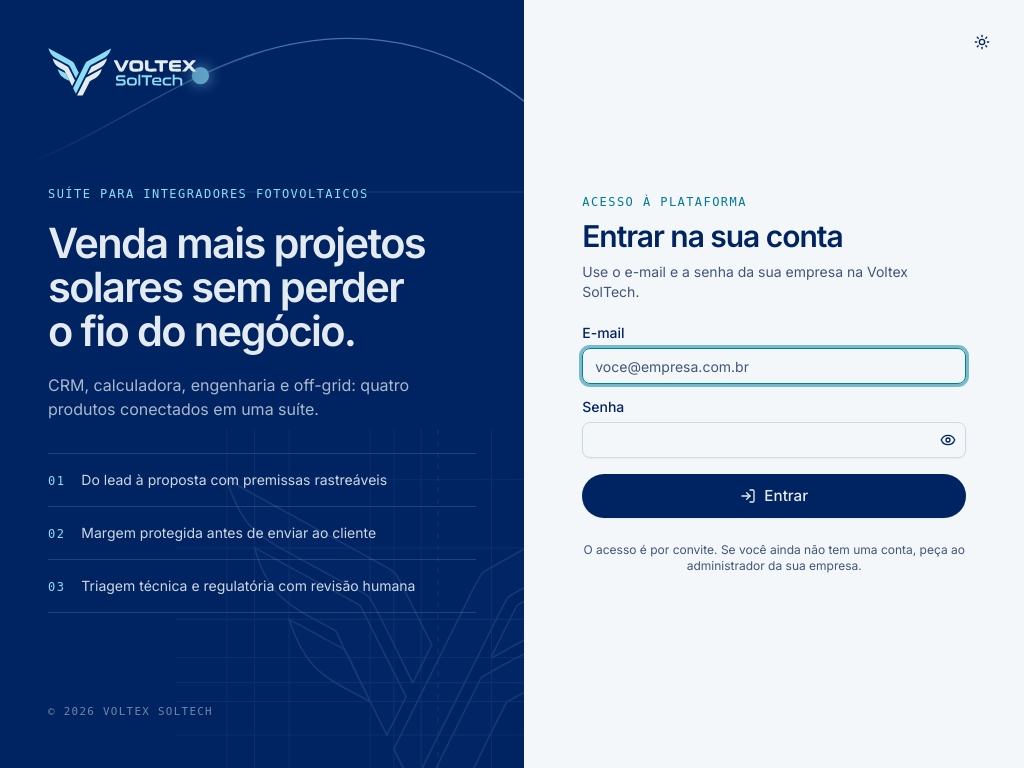
Scenario: LoginPage › credenciais erradas (401) mostram mensagem clara e mantêm o formulário
Expected: the heading "Entrar na sua conta" is shown, [582,218,842,254]
In the field labelled "E-mail": [774, 366] box [582,348,966,384], type "owner@voltex.test"
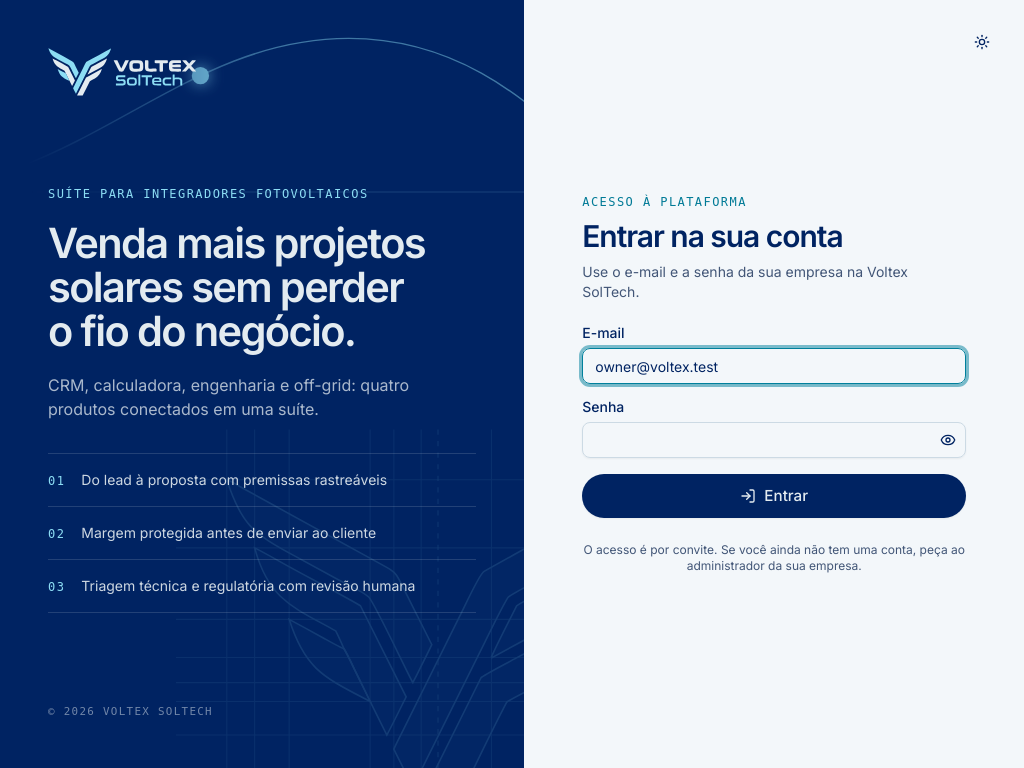
In the password field labelled "Senha": [774, 440] box [582,422,966,458], type "senhaerrada1"
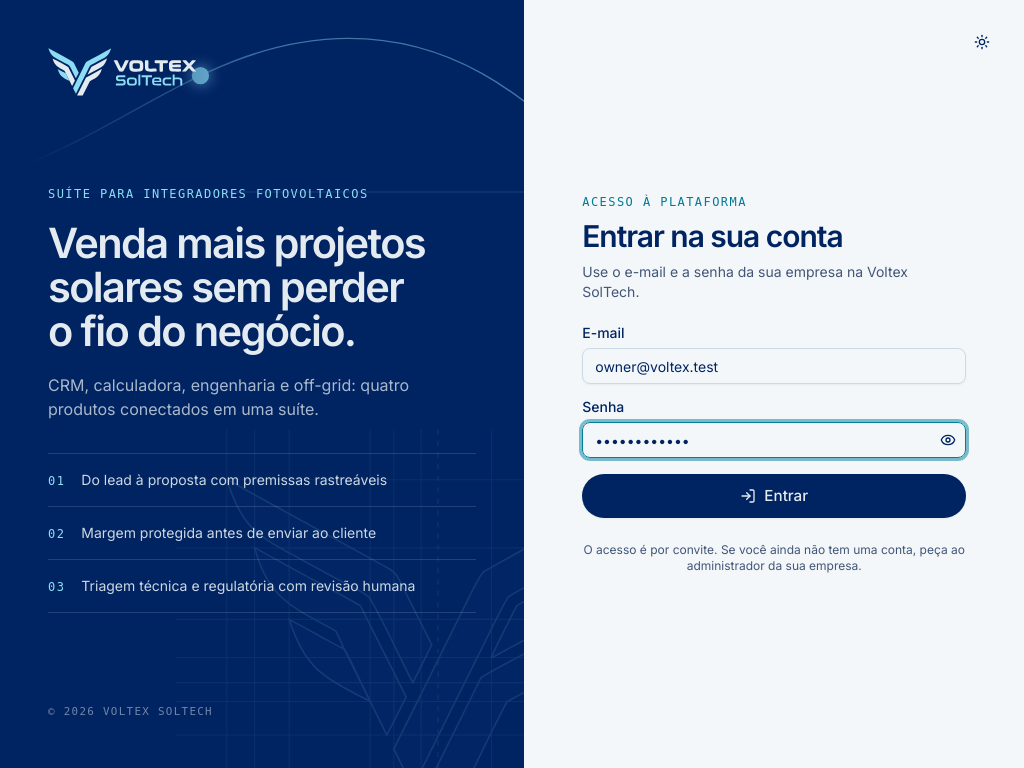
Click the button "Entrar": [774, 496] box [582,474,966,518]
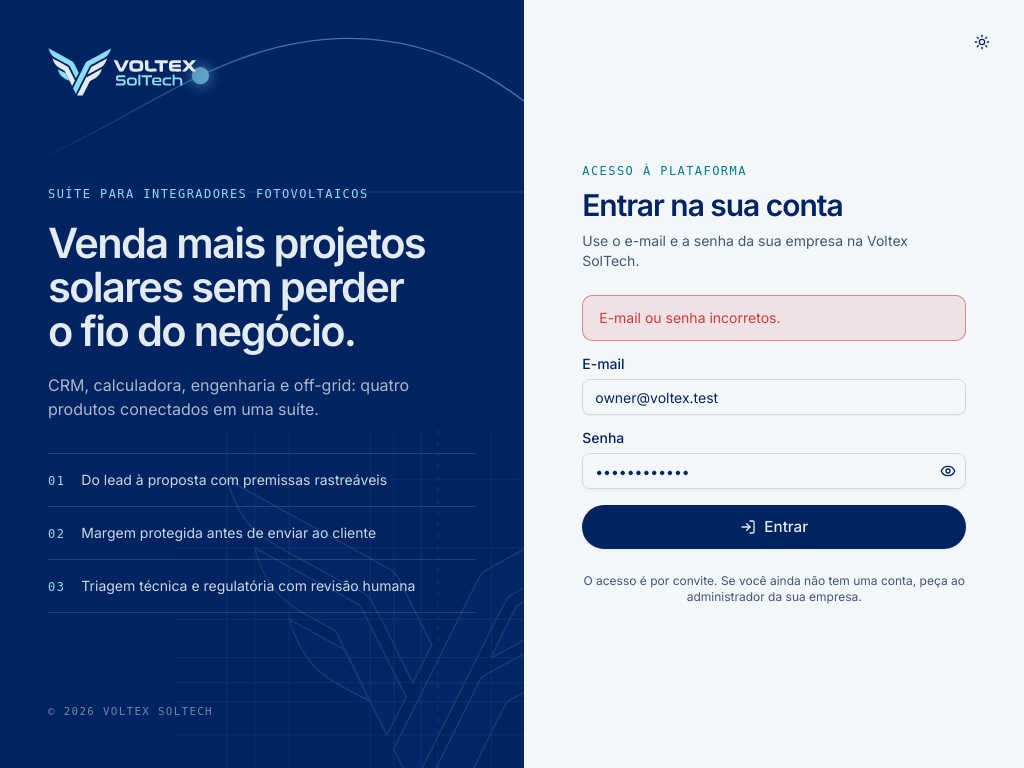
Now the text "E-mail ou senha incorretos." is shown, box [599,308,780,328]
